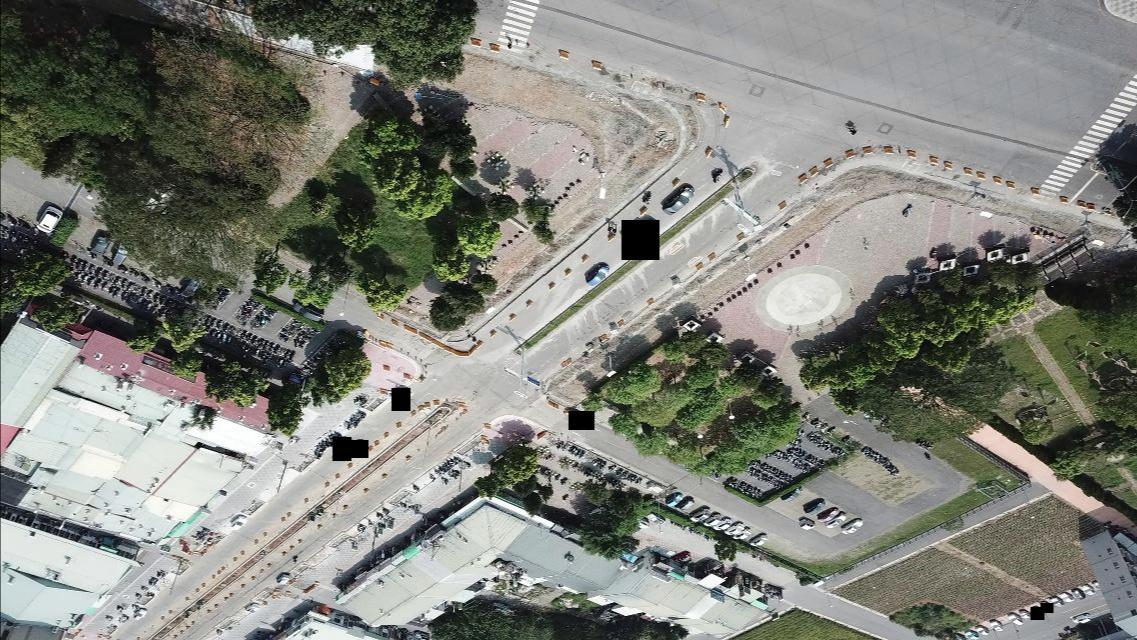vehicle: (662, 185, 694, 215), (36, 205, 61, 234), (585, 263, 610, 287), (110, 240, 131, 268), (293, 301, 323, 320), (179, 274, 203, 297), (88, 233, 110, 258), (779, 486, 801, 504), (803, 499, 825, 516), (817, 507, 839, 524), (825, 513, 846, 530), (690, 507, 710, 524), (841, 521, 861, 536), (229, 516, 247, 532), (726, 522, 745, 536), (671, 551, 691, 564), (714, 517, 731, 532), (749, 534, 767, 548), (664, 494, 681, 508), (732, 528, 750, 541), (675, 498, 694, 510), (703, 514, 720, 527), (646, 514, 666, 525), (132, 608, 147, 621), (1008, 613, 1022, 626), (1072, 614, 1090, 624), (799, 519, 815, 530), (989, 620, 1003, 632), (1071, 590, 1086, 601), (245, 603, 259, 614), (276, 574, 289, 585), (1049, 597, 1063, 607), (1081, 586, 1095, 596), (1060, 593, 1073, 603), (976, 626, 989, 636), (964, 631, 979, 639), (1019, 610, 1030, 619)
